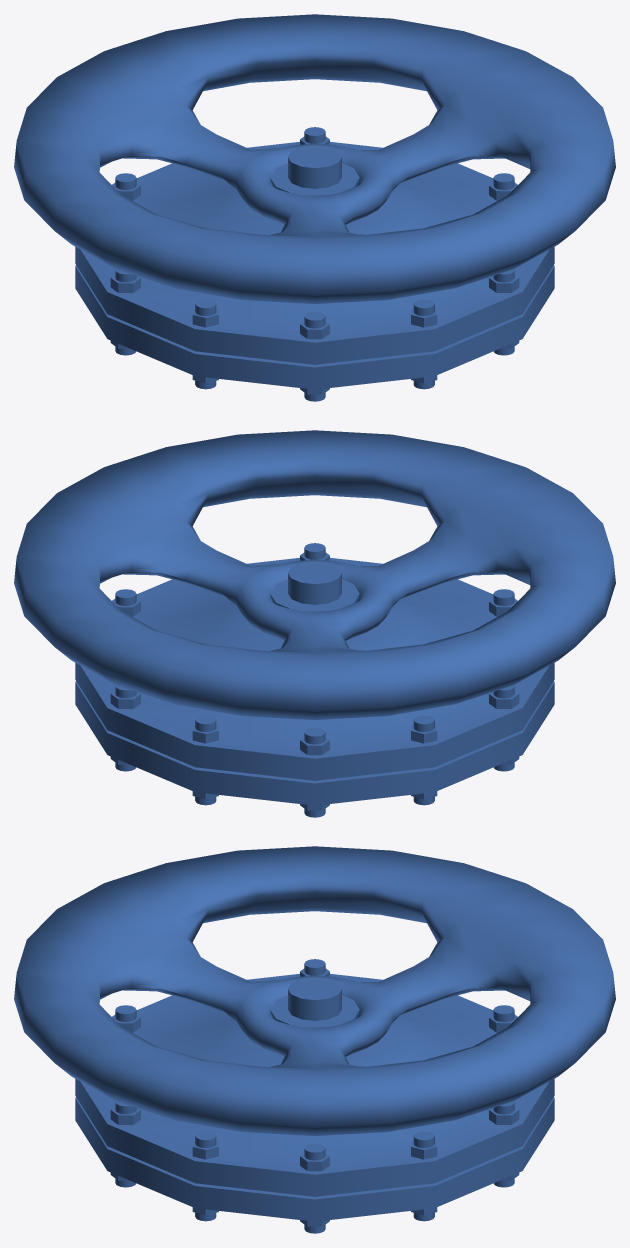
File: Pipe_End_Valve_low.fbx
3 renders of one model, top to bottom at view 1: azimuth 30°, elevation 25°; view 2: azimuth 150°, elevation 25°; view 3: azimuth 270°, elevation 25°, orthographic.
Parts seen in each view (by area): view 1: Handle, BasePlate; view 2: Handle, BasePlate; view 3: Handle, BasePlate.
Part boxes in pixels (x1=…): Handle: x1=14, y1=14, x2=615, y2=303; BasePlate: x1=75, y1=127, x2=554, y2=401; Handle: x1=14, y1=430, x2=615, y2=719; BasePlate: x1=75, y1=543, x2=554, y2=817; Handle: x1=14, y1=846, x2=615, y2=1135; BasePlate: x1=75, y1=959, x2=554, y2=1233.
Bounding box in the file's own units: 36.32 × 10.95 × 36.32.
